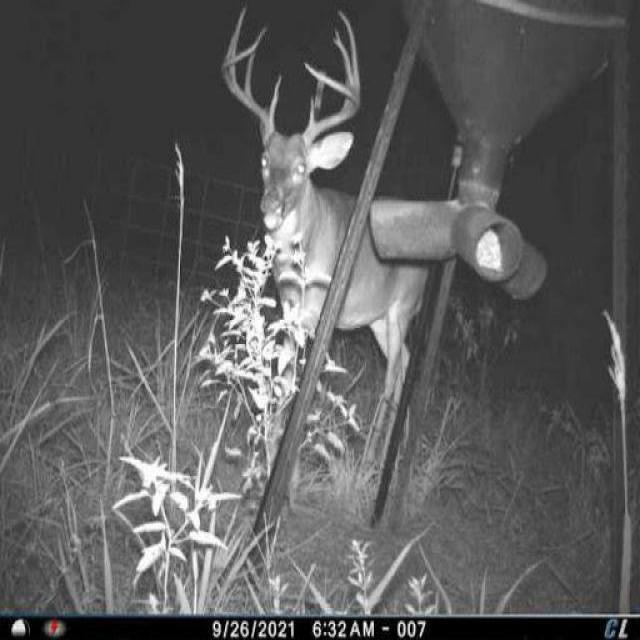deer: (215, 0, 435, 493)
